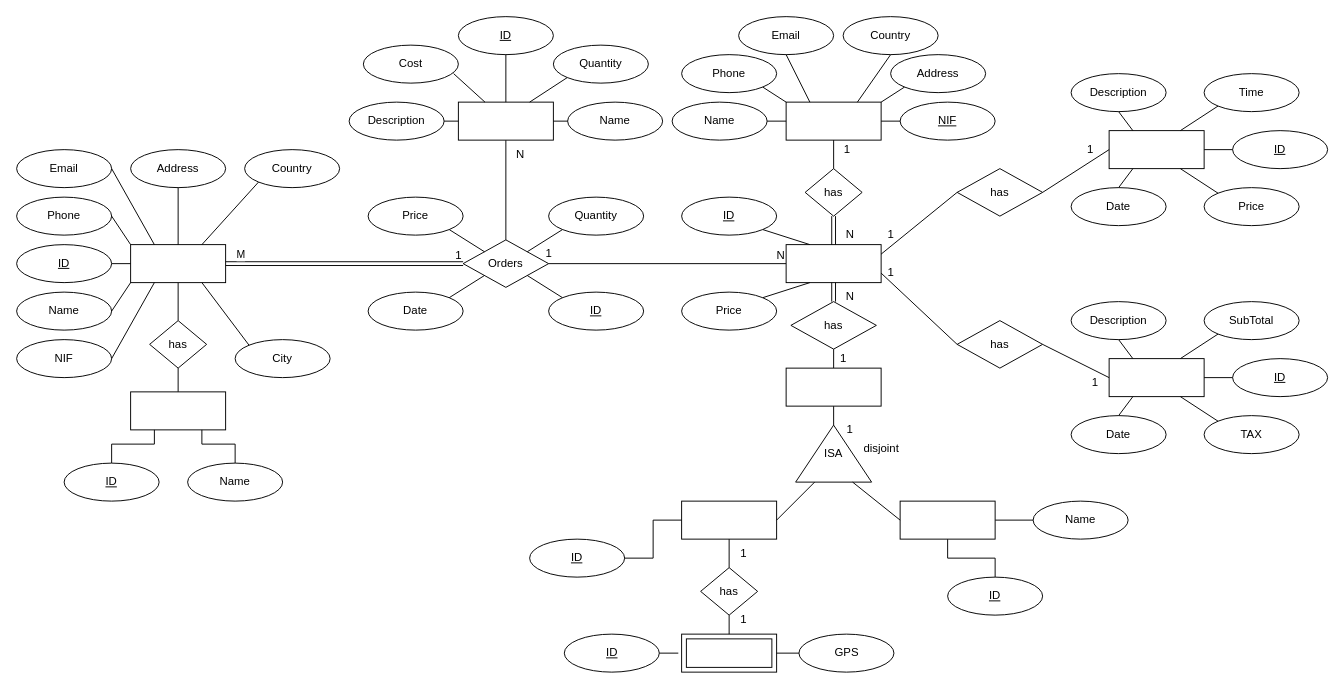
Some shapes in this 1344 by 689 pixel diagram are drawn without their labels. The centre of each missing label's shape, as x and y in pixels:
Accessories: [947,519]
Geographic Location: [729,652]
Insurance: [1156,149]
Inventory/Stock: [505,120]
Payment: [1156,377]
Product: [833,263]
Role: [178,410]
Scooter / Bike: [729,519]
Supplier: [833,120]
Type: [833,386]
User: [178,263]
